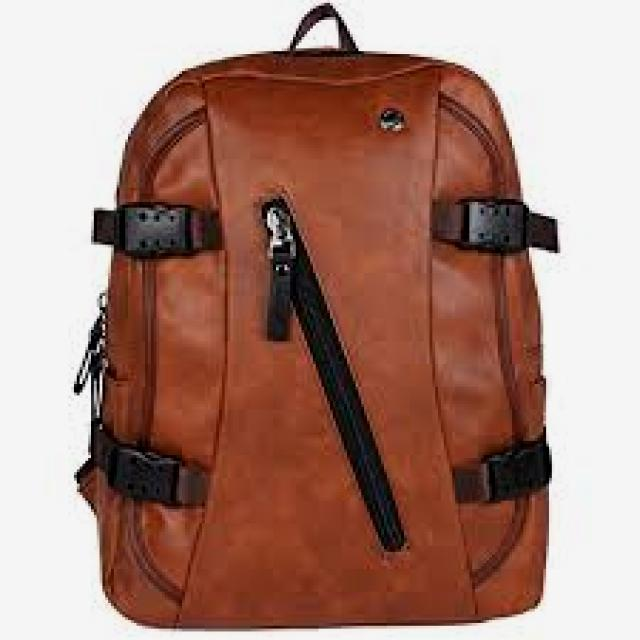backpack: (72, 2, 561, 630)
